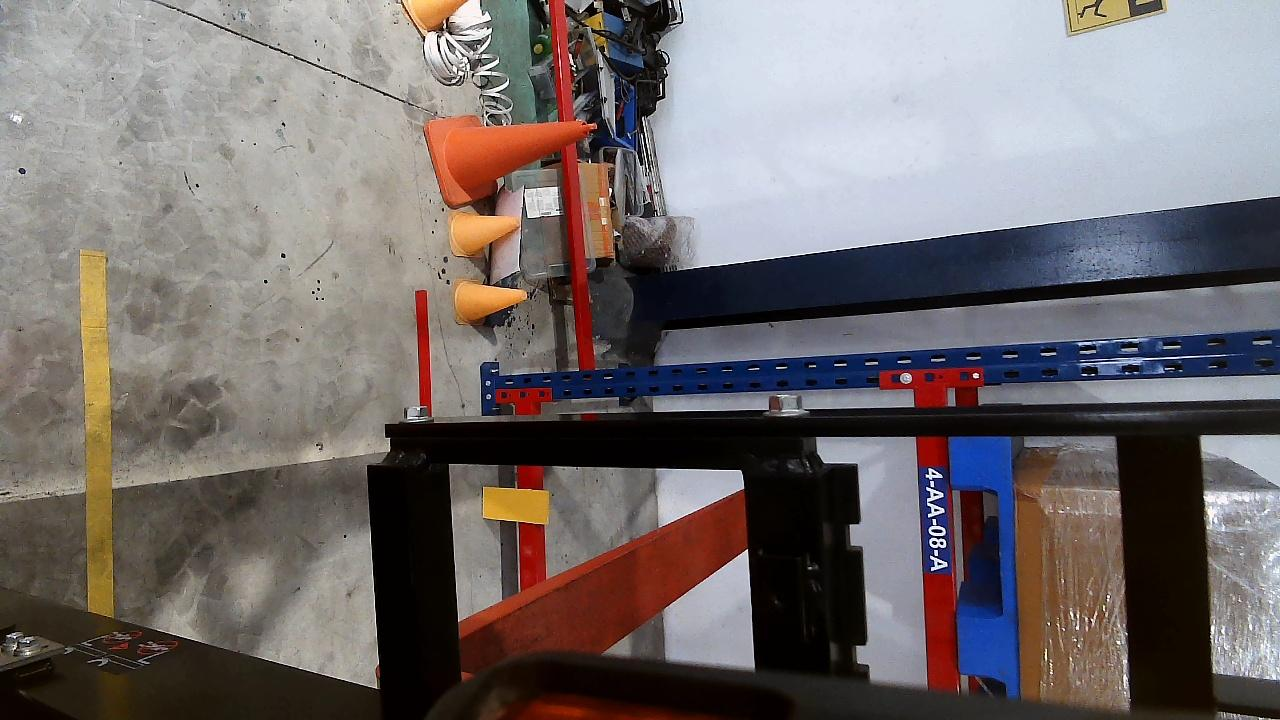h_rack: (910, 387, 956, 693)
orange_strip: (482, 487, 551, 525)
red_line: (414, 289, 433, 416)
small_pallet: (949, 441, 1022, 699)
yellow_line: (80, 250, 113, 618)
